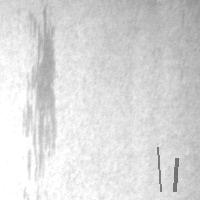inclusion: (21, 2, 60, 184), (155, 145, 162, 193), (172, 156, 178, 193)
